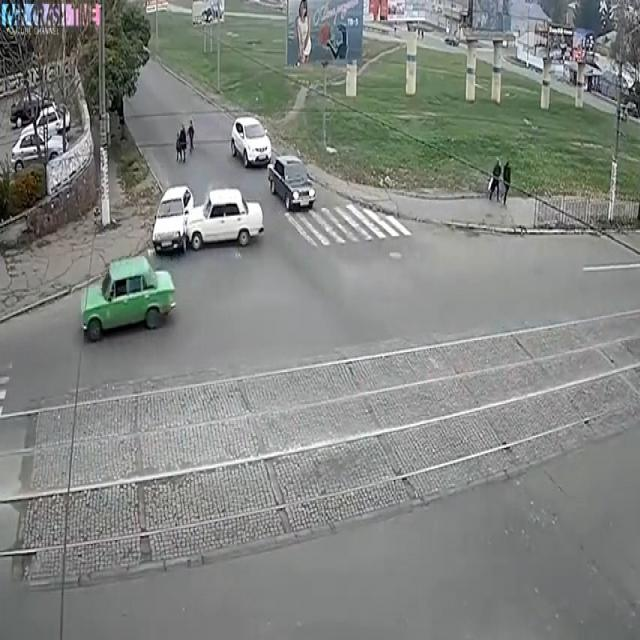Accident: (154, 158, 262, 274)
